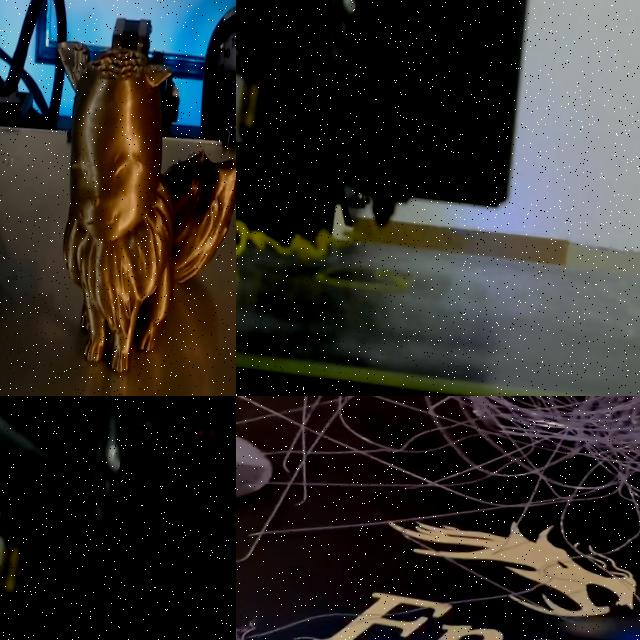spaghetti: (236, 396, 640, 605), (236, 219, 333, 259), (351, 219, 383, 241)
